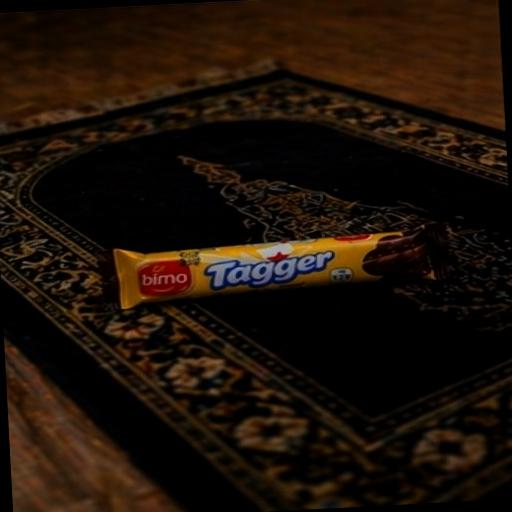tagger: (62, 174, 504, 357)
